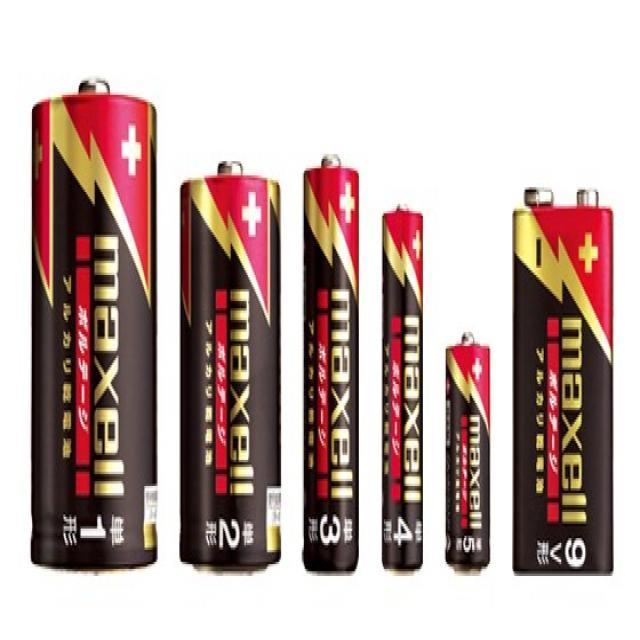hazardous waste: (27, 66, 163, 580), (177, 151, 291, 593), (298, 150, 371, 586), (375, 196, 436, 594), (439, 330, 494, 580)
